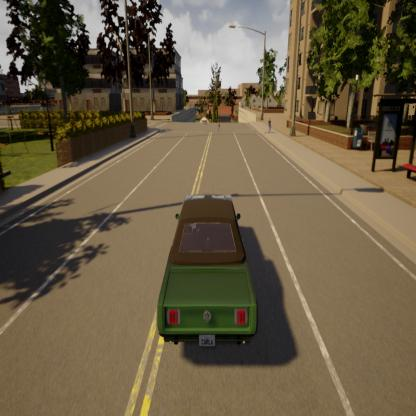Cars: (140, 177, 272, 370)
Pedestrian: (266, 112, 277, 138), (215, 114, 223, 139)
